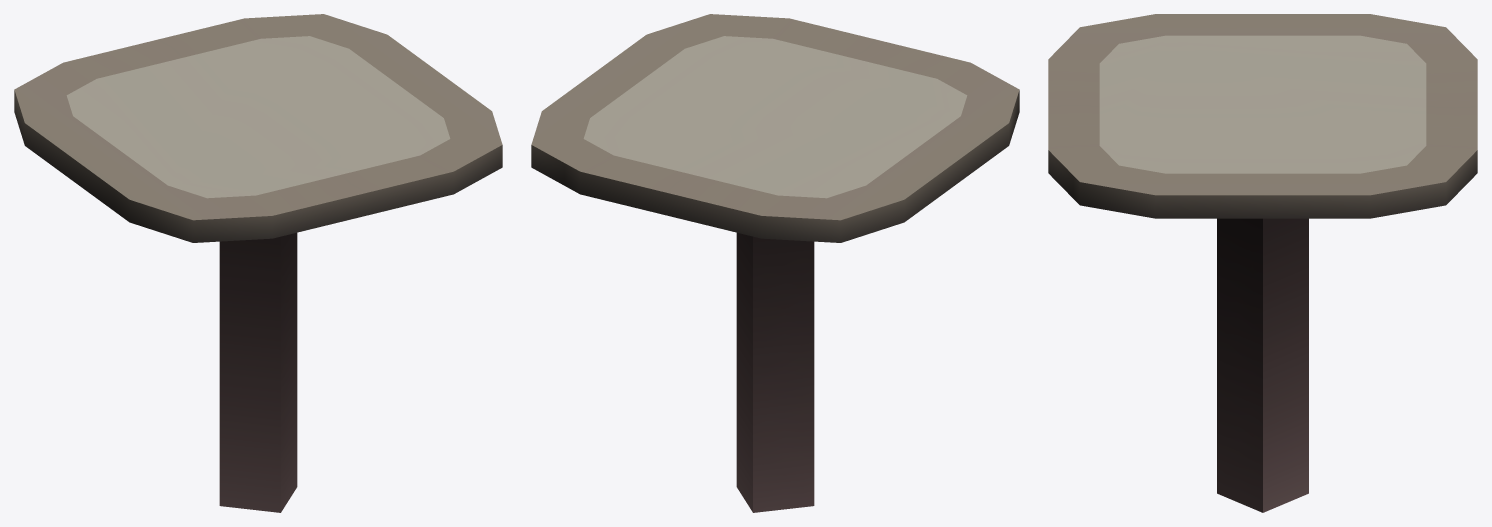
File: Chair_2A.fbx
3 views of the same model, side by side, from view 1: azimuth 30°, elevation 25°; view 2: azimuth 150°, elevation 25°; view 3: azimuth 270°, elevation 25° (orthographic). The views are drawn at different scales.
Visible parts, largest first — view 1: Chair_2A; view 2: Chair_2A; view 3: Chair_2A.
Part boxes in pixels (x1,y1,x2,y2): Chair_2A: [14, 14, 502, 512]; Chair_2A: [531, 14, 1019, 512]; Chair_2A: [1048, 14, 1477, 512].
Size of the model in its own units: 50 by 50 by 50.
